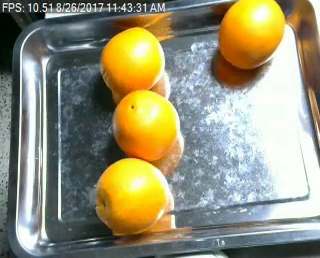Orange: (92, 156, 171, 234), (111, 87, 181, 162), (216, 1, 285, 70), (99, 26, 165, 92)
